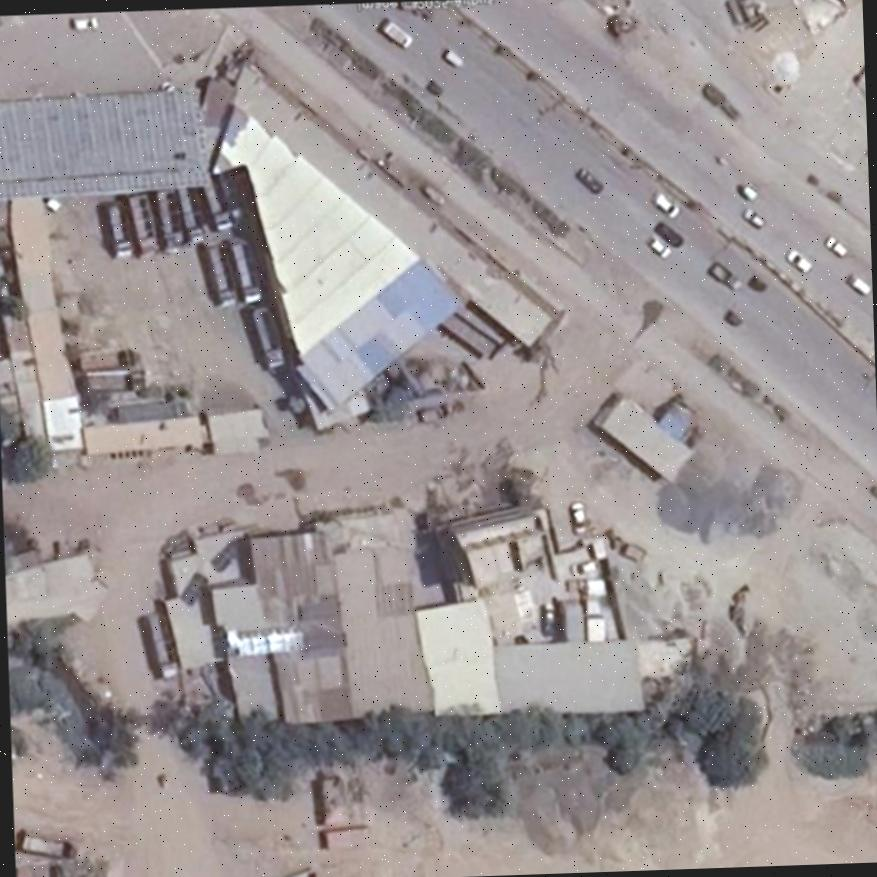Solarpanel: (209, 539, 244, 571), (179, 572, 208, 607)
